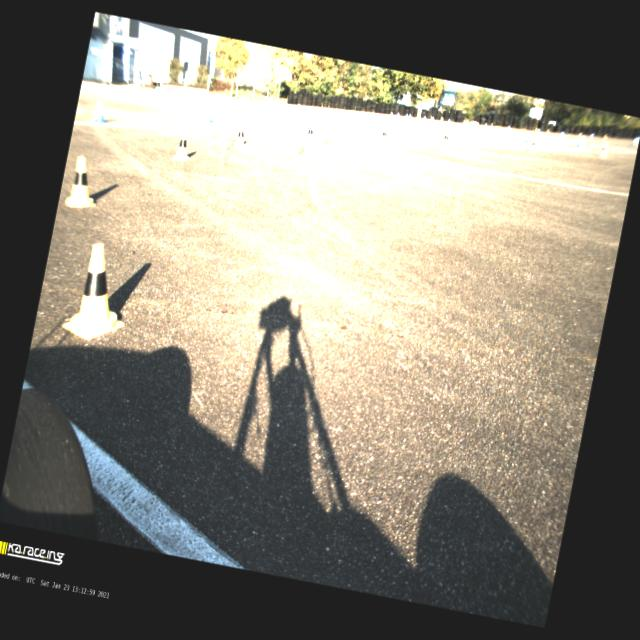blue_cone: (93, 101, 109, 124), (204, 106, 216, 124), (524, 130, 533, 144), (577, 135, 586, 148), (314, 114, 322, 128), (464, 125, 472, 139), (387, 120, 395, 132), (559, 130, 564, 140), (506, 124, 511, 132), (589, 132, 594, 139), (405, 113, 409, 121), (483, 122, 488, 128), (389, 111, 394, 117), (431, 116, 435, 123), (423, 115, 427, 122), (536, 128, 540, 134), (408, 114, 412, 120), (396, 112, 400, 118), (448, 119, 451, 122)
yellow_cone: (62, 240, 138, 346), (64, 155, 104, 212), (172, 128, 194, 162), (233, 122, 250, 148), (304, 122, 317, 144), (440, 128, 452, 146), (598, 140, 610, 158), (529, 136, 539, 153), (380, 128, 390, 144), (576, 132, 583, 140), (602, 132, 608, 140), (439, 116, 444, 123), (546, 128, 550, 136), (534, 127, 538, 135), (490, 123, 494, 131), (430, 115, 432, 122)
